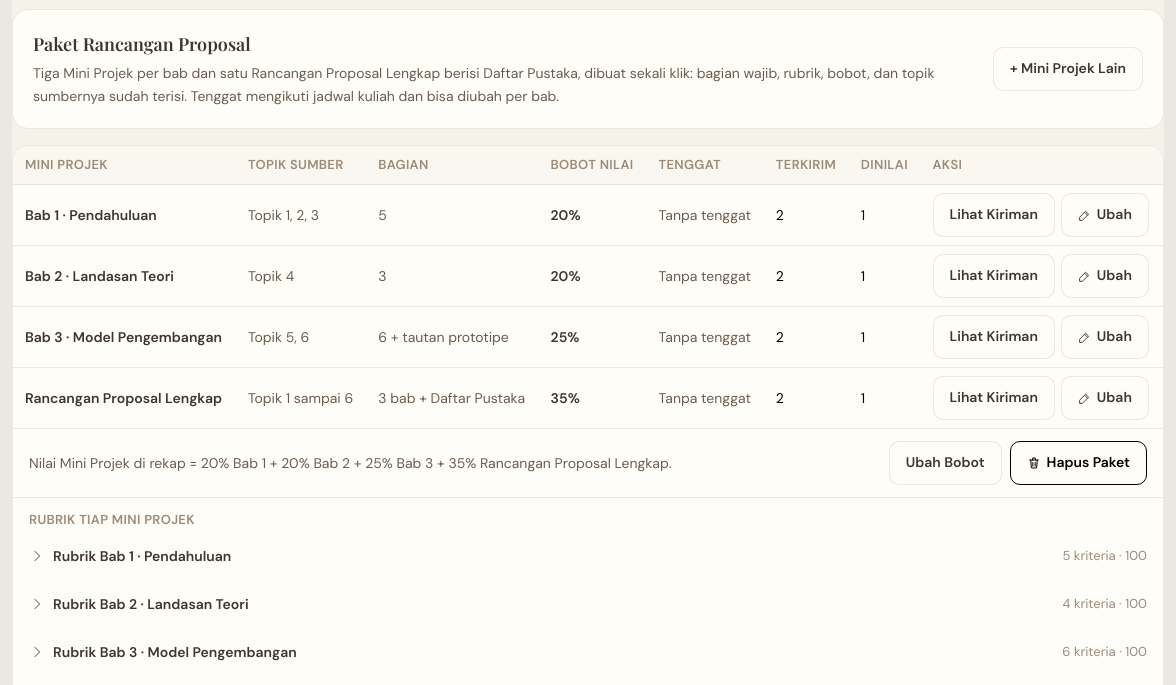
it: TugasAkhirPanel — Paket Rancangan Proposal › modal nilai menampilkan teks "ukur" kriteria bila ada
The image size is (1176, 685).
Expected: the text "Rancangan Proposal Lengkap" is shown, x1=13 y1=368 x2=236 y2=428
Click the button "Lihat Kiriman" in the row of "Topik 1, 2, 3".
click(994, 215)  # box x1=932 y1=193 x2=1055 y2=237
(page scrolled)
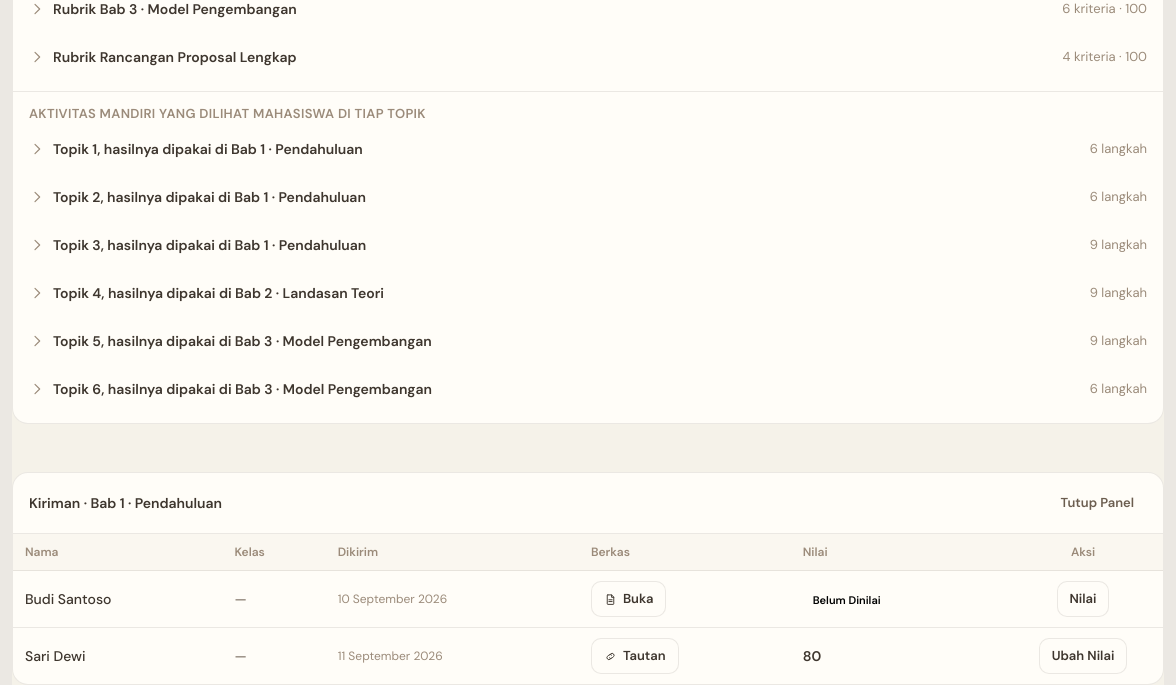
Expected: the text "Budi Santoso" is shown, x1=13 y1=571 x2=222 y2=628
// Teks ukur tampil dua kali: di daftar rubrik tab dosen dan di modal nilai.
Click the button "Nilai".
click(1083, 599)  # box x1=1056 y1=581 x2=1110 y2=617
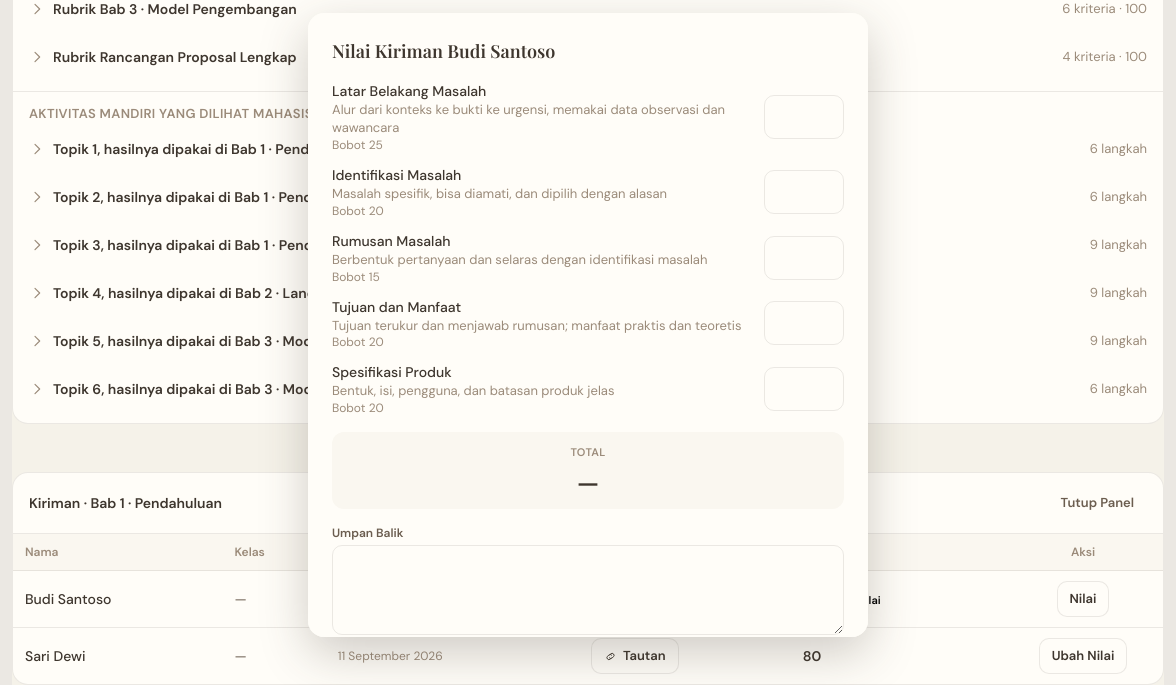
Expected: the text "Alur dari konteks ke bukti ke urgensi, memakai data observasi dan wawancara" is shown 2 times
